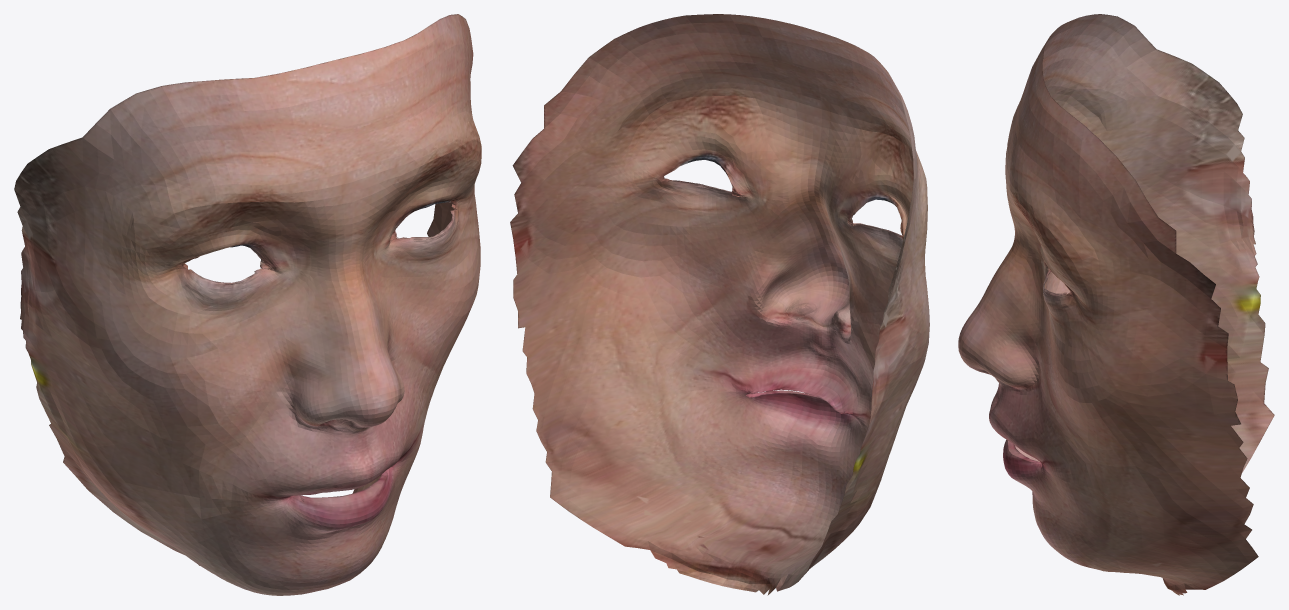
The model's file is temp_img.obj.
The picture shows the model from 3 angles, left to right: view 1: azimuth 30°, elevation 25°; view 2: azimuth 150°, elevation 25°; view 3: azimuth 270°, elevation 25°; orthographic projection. The views are drawn at different scales.
Size of the model in its own units: 157 by 198 by 111.
1 material, 1 textured.
